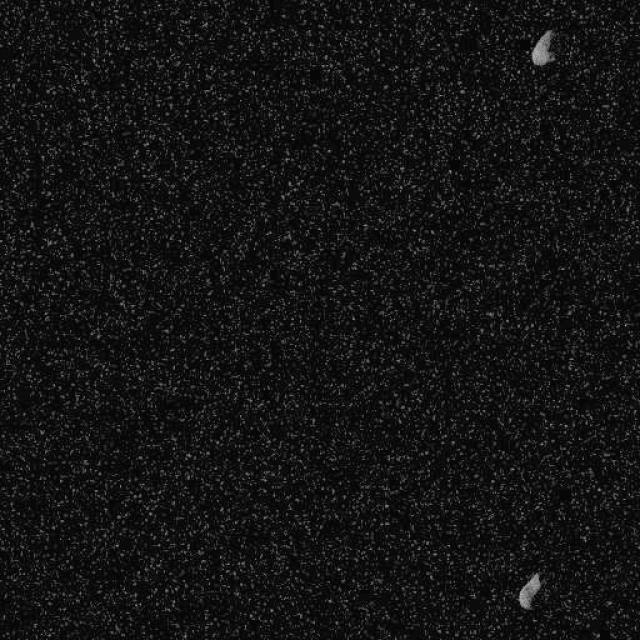D2: (530, 28, 556, 66), (518, 571, 542, 610)
